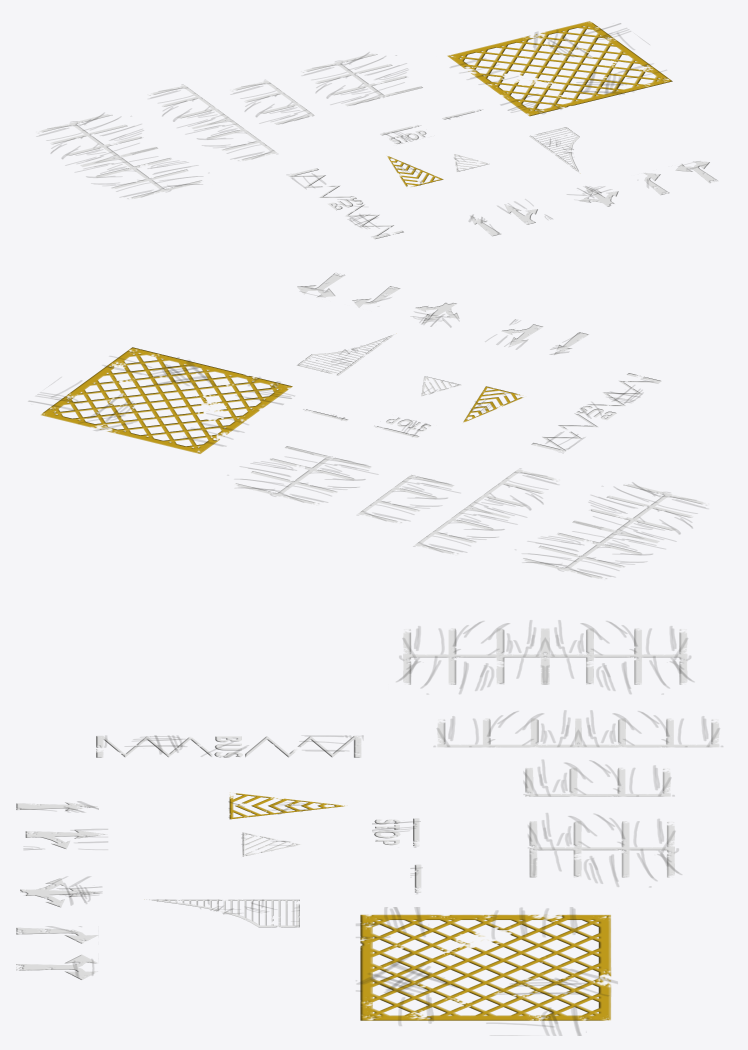
File: StreetRoadMarks.glb
3 views of the same model, one above another, from view 1: azimuth 30°, elevation 25°; view 2: azimuth 150°, elevation 25°; view 3: azimuth 270°, elevation 25° (orthographic). The views are drawn at different scales.
Parts seen in each view (by area): view 1: RoadM_Intersection, RoadM_PArking_D, RoadM_PArking_C, RoadM_PArking_A, RoadM_BusStop, RoadM_PArking_AB, RoadM_Triangle_C, RoadM_Triangle_A, RoadM_LFR; view 2: RoadM_Intersection, RoadM_PArking_D, RoadM_PArking_C, RoadM_PArking_A, RoadM_BusStop, RoadM_Triangle_C, RoadM_PArking_AB, RoadM_Triangle_A; view 3: RoadM_Intersection, RoadM_PArking_D, RoadM_PArking_C, RoadM_PArking_A, RoadM_BusStop, RoadM_PArking_AB, RoadM_Triangle_C, RoadM_Triangle_A, RoadM_LFR, RoadM_LR, RoadM_Stop, RoadM_FR.
Boxes of the visible parts, x1=… form: RoadM_Intersection: x1=447, y1=21, x2=672, y2=116; RoadM_PArking_D: x1=36, y1=113, x2=202, y2=199; RoadM_PArking_C: x1=147, y1=85, x2=276, y2=161; RoadM_PArking_A: x1=301, y1=53, x2=422, y2=106; RoadM_BusStop: x1=287, y1=168, x2=403, y2=238; RoadM_PArking_AB: x1=230, y1=80, x2=314, y2=124; RoadM_Triangle_C: x1=529, y1=127, x2=579, y2=171; RoadM_Triangle_A: x1=387, y1=156, x2=443, y2=186; RoadM_LFR: x1=567, y1=186, x2=618, y2=206; RoadM_Intersection: x1=29, y1=347, x2=292, y2=453; RoadM_PArking_D: x1=523, y1=483, x2=709, y2=579; RoadM_PArking_C: x1=414, y1=469, x2=559, y2=555; RoadM_PArking_A: x1=235, y1=446, x2=371, y2=505; RoadM_BusStop: x1=531, y1=373, x2=661, y2=452; RoadM_Triangle_C: x1=297, y1=334, x2=393, y2=375; RoadM_PArking_AB: x1=358, y1=474, x2=454, y2=523; RoadM_Triangle_A: x1=463, y1=386, x2=523, y2=422; RoadM_Intersection: x1=356, y1=907, x2=617, y2=1035; RoadM_PArking_D: x1=397, y1=620, x2=693, y2=693; RoadM_PArking_C: x1=434, y1=711, x2=722, y2=747; RoadM_PArking_A: x1=528, y1=813, x2=681, y2=886; RoadM_BusStop: x1=96, y1=735, x2=362, y2=757; RoadM_PArking_AB: x1=524, y1=760, x2=673, y2=796; RoadM_Triangle_C: x1=149, y1=899, x2=299, y2=927; RoadM_Triangle_A: x1=229, y1=793, x2=344, y2=819; RoadM_LFR: x1=20, y1=877, x2=101, y2=907; RoadM_LR: x1=16, y1=954, x2=97, y2=979; RoadM_Stop: x1=372, y1=818, x2=420, y2=847; RoadM_FR: x1=25, y1=829, x2=107, y2=849.
Size of the model in its own units: 64.85 by 7.63e-08 by 47.1.
Materials: 1 (1 with a texture image).
